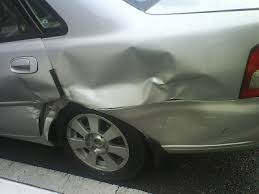Dent: (75, 47, 232, 108), (1, 76, 64, 138)
